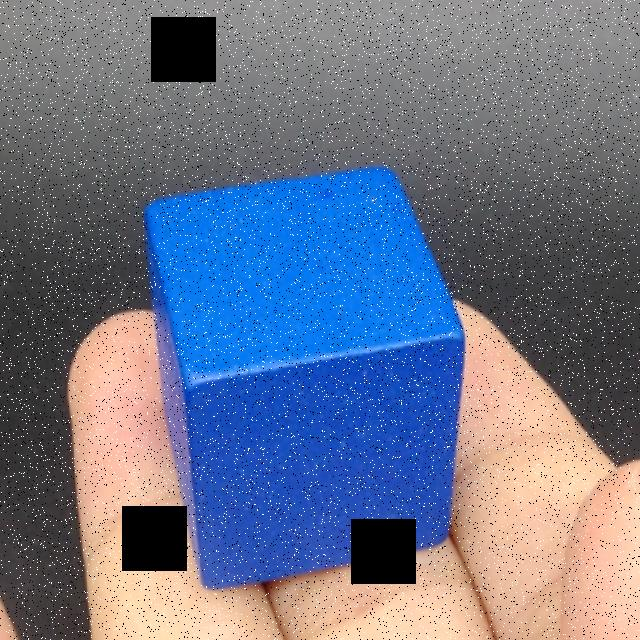bluecube: (143, 168, 466, 592)
